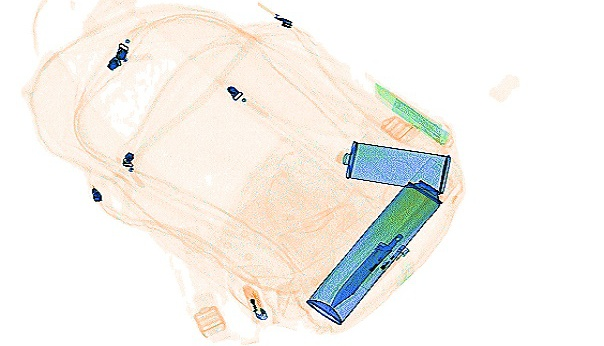knife: (324, 188, 440, 311)
lighter: (357, 239, 410, 291), (240, 282, 267, 317)
pressure: (302, 154, 462, 325)
zippooil: (342, 139, 449, 191)
